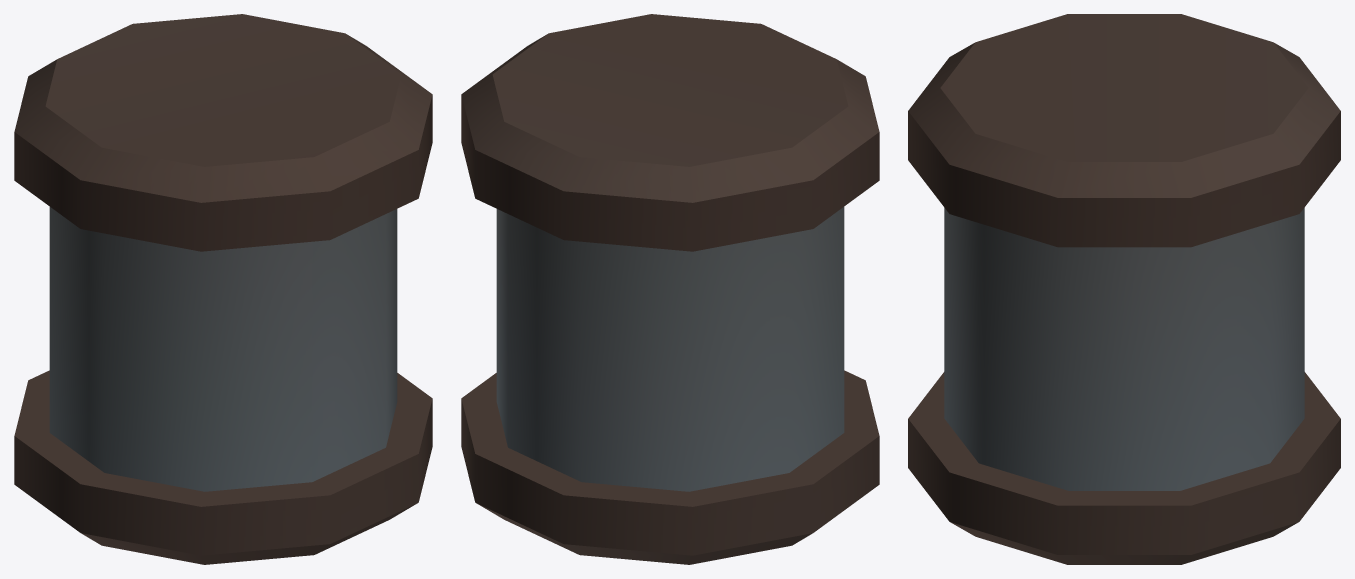
File: SM_PipiB_03.fbx
3 views of the same model, side by side, from view 1: azimuth 30°, elevation 25°; view 2: azimuth 150°, elevation 25°; view 3: azimuth 270°, elevation 25° (orthographic).
Visible parts, largest first — view 1: SM_PipiB_03; view 2: SM_PipiB_03; view 3: SM_PipiB_03.
Part boxes in pixels (left/top/right/bottom): SM_PipiB_03: left=14, top=14, right=432, bottom=564; SM_PipiB_03: left=461, top=14, right=879, bottom=564; SM_PipiB_03: left=908, top=14, right=1340, bottom=564.
Size of the model in its own units: 0.2064 by 0.2171 by 0.223.
